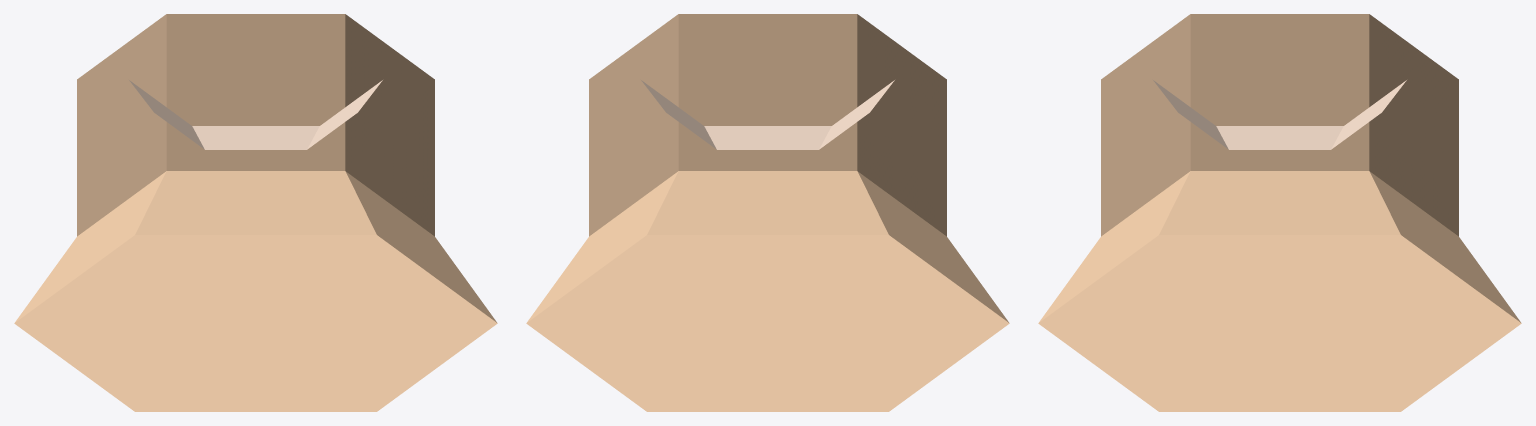
Rendered from treeStump_round.glb.
3 views of the same model, side by side, from view 1: azimuth 30°, elevation 25°; view 2: azimuth 150°, elevation 25°; view 3: azimuth 270°, elevation 25° (orthographic).
Visible parts, largest first — view 1: treeStump_round; view 2: treeStump_round; view 3: treeStump_round.
Part boxes in pixels (<box>): treeStump_round: <box>14,14,497,411</box>; treeStump_round: <box>526,14,1009,411</box>; treeStump_round: <box>1038,14,1521,411</box>.
Bounding box in the file's own units: 3.21 × 2.07 × 3.71.
